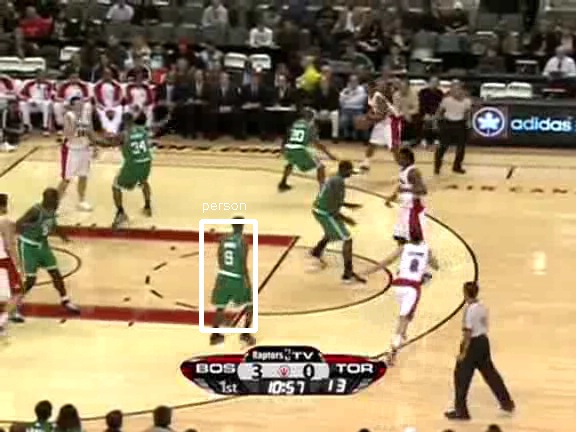person: (216, 230, 250, 311), (215, 230, 249, 311), (217, 230, 251, 311), (216, 229, 250, 310), (216, 231, 250, 312)
target_negative: (58, 6, 495, 214), (272, 10, 466, 278), (288, 27, 380, 317), (52, 223, 152, 350), (289, 32, 411, 75), (548, 217, 572, 406)
